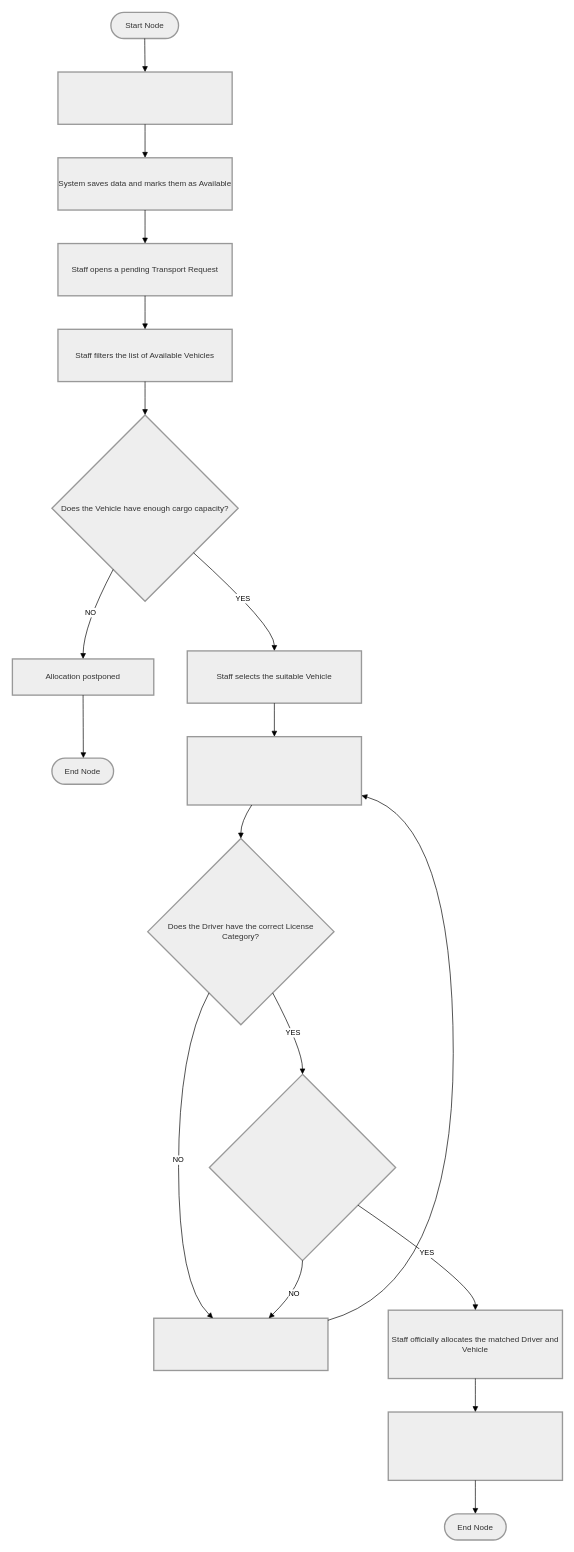
This 574x1552 diagram has some shape labels left out. The box of each missing label's shape, as (x1, y1, x2, y2) in pixels:
Administrator registers Vehicles and Driver Profiles: (57, 71, 232, 125)
Does the Driver's CV show enough Experience?: (208, 1073, 396, 1261)
Staff opens the list of Available Drivers to check their CVs: (186, 736, 362, 805)
Staff rejects driver and checks the next CV: (153, 1317, 328, 1371)
System locks the Driver and Vehicle - Status: Unavailable: (387, 1411, 563, 1481)
